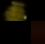pot: (0, 0, 31, 21)
zombie: (31, 21, 45, 44)
